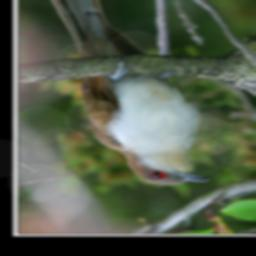Cuckoo: (28, 0, 212, 187)
